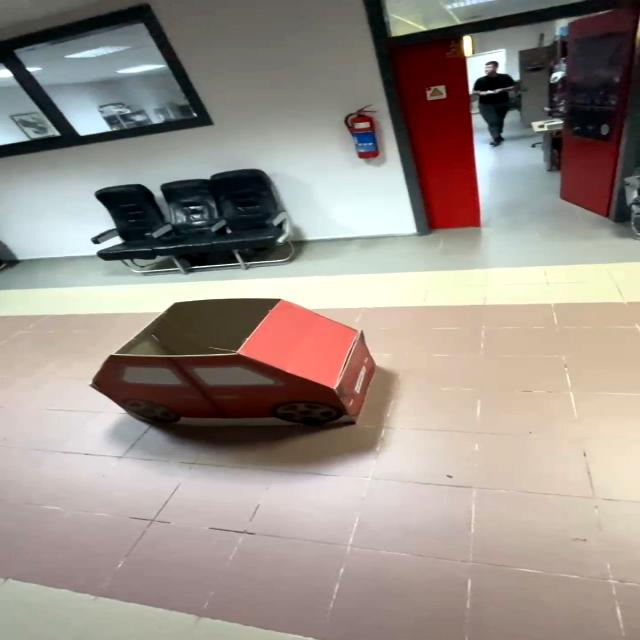red_car: (66, 283, 419, 465)
